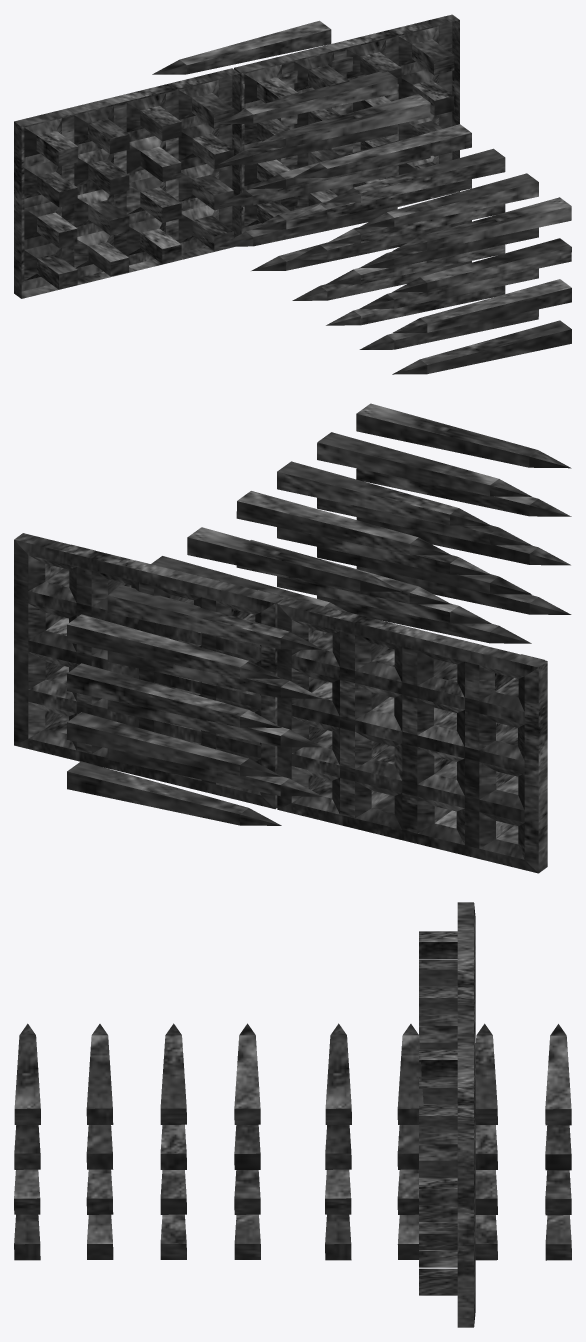
Rendered from spike_trap.glb.
The picture shows the model from 3 angles, top to bottom: view 1: azimuth 30°, elevation 25°; view 2: azimuth 150°, elevation 25°; view 3: azimuth 270°, elevation 25°; orthographic projection. The views are drawn at different scales.
Visible parts, largest first — view 1: Cube_0; view 2: Cube_0; view 3: Cube_0.
Boxes of the visible parts, x1,y1,x2,y2 form: Cube_0: [14, 14, 571, 374]; Cube_0: [14, 403, 571, 873]; Cube_0: [14, 902, 571, 1327].
Bounding box in the file's own units: 0.52 × 0.195 × 0.5205.
Materials: 1 (1 with a texture image).
